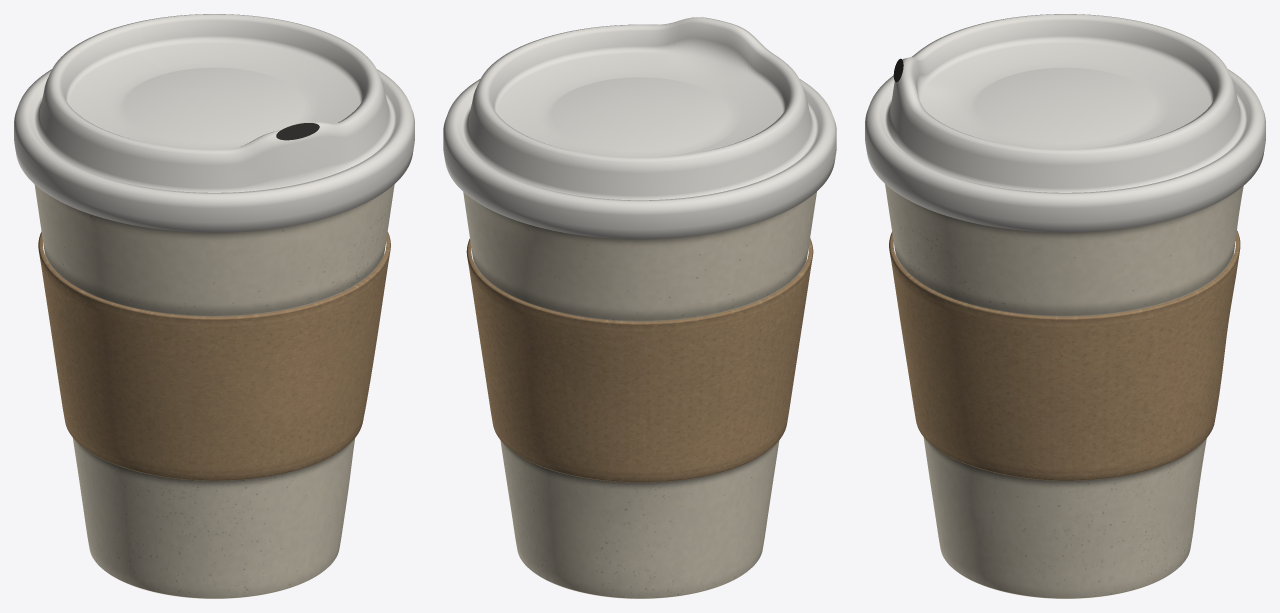
File: default-cup.glb
3 renders of one model, left to right at view 1: azimuth 30°, elevation 25°; view 2: azimuth 150°, elevation 25°; view 3: azimuth 270°, elevation 25°, orthographic.
Visible parts, largest first — view 1: cup; view 2: cup; view 3: cup.
Part boxes in pixels (box(x1,y1,x2,y2)): cup: box(14, 14, 414, 598); cup: box(443, 17, 836, 598); cup: box(865, 14, 1265, 598).
Size of the model in its own units: 0.096 by 0.1272 by 0.096.
Materials: 4 (2 with a texture image).
